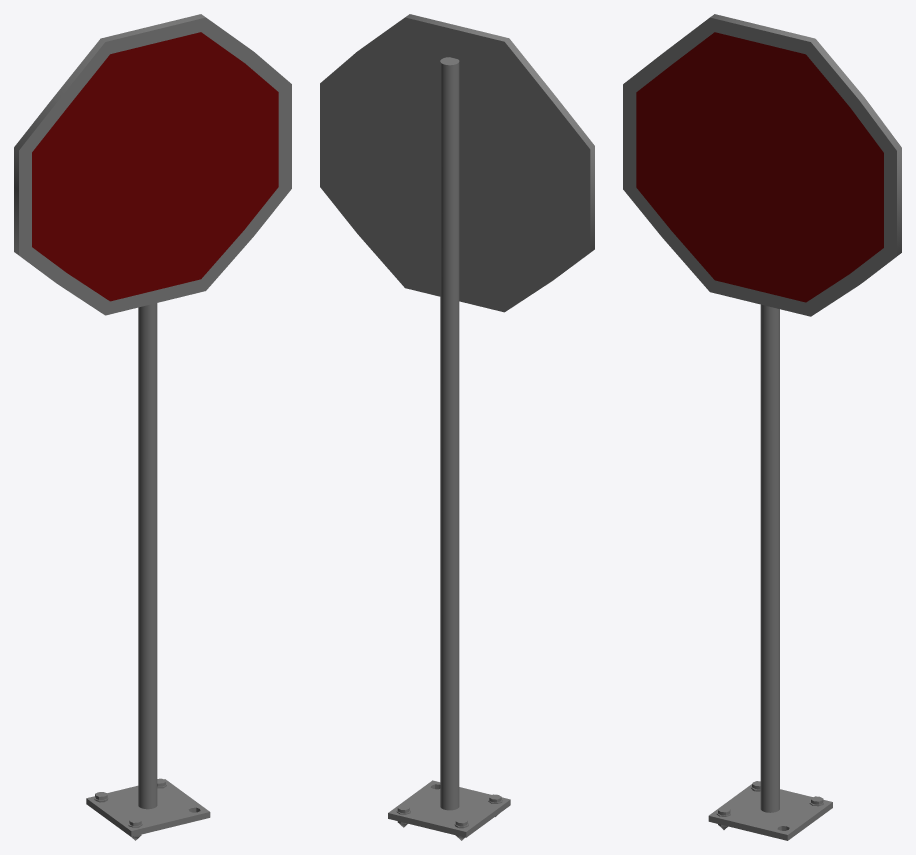
Rendered from StopSign.fbx.
3 renders of one model, left to right at view 1: azimuth 30°, elevation 25°; view 2: azimuth 150°, elevation 25°; view 3: azimuth 330°, elevation 25°, orthographic.
Parts seen in each view (by area): view 1: Box034; view 2: Box034; view 3: Box034.
Part boxes in pixels (bbox=[...]): Box034: bbox=[14, 14, 291, 840]; Box034: bbox=[320, 14, 594, 840]; Box034: bbox=[623, 14, 901, 840].
Bounding box in the file's own units: 29.78 × 83.23 × 8.49.
